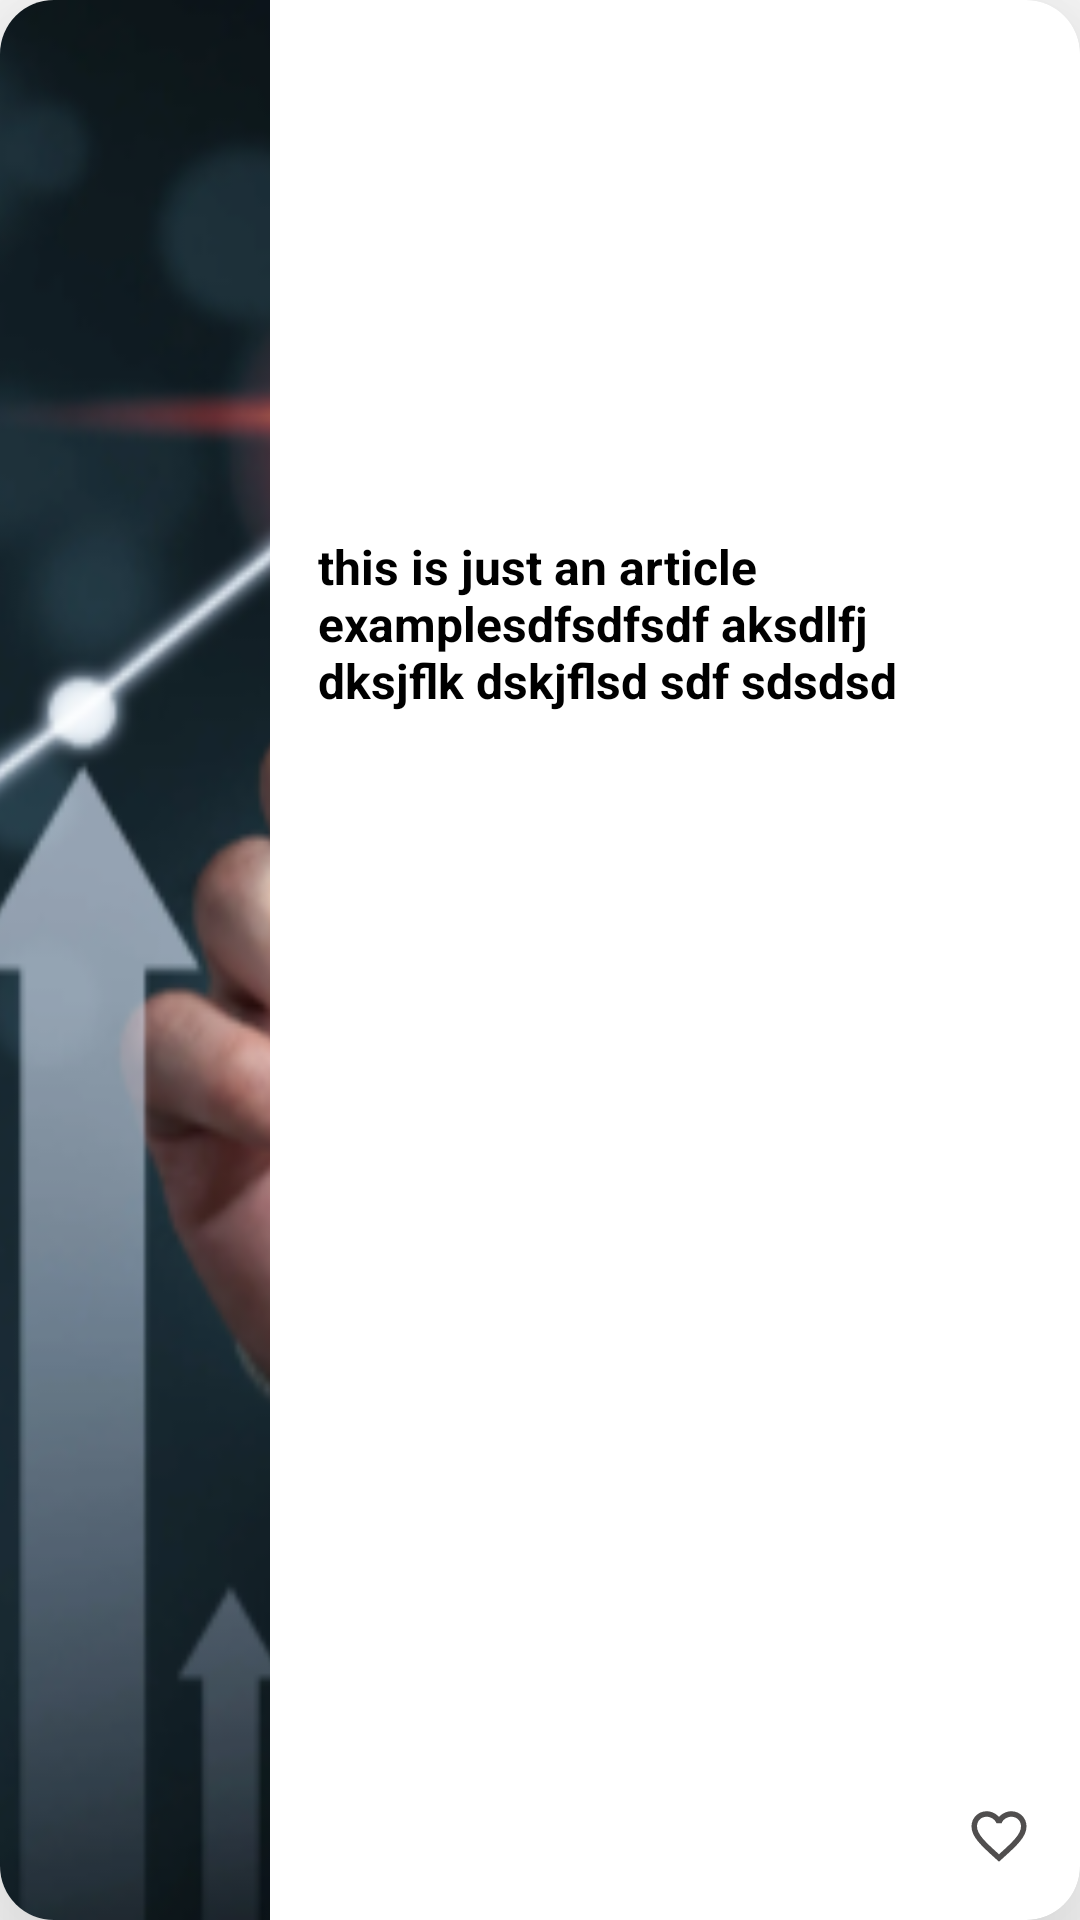

Icon click points for this 1080×1920 phone screenshot, format (x,y):
favorite border: (999,1836)
